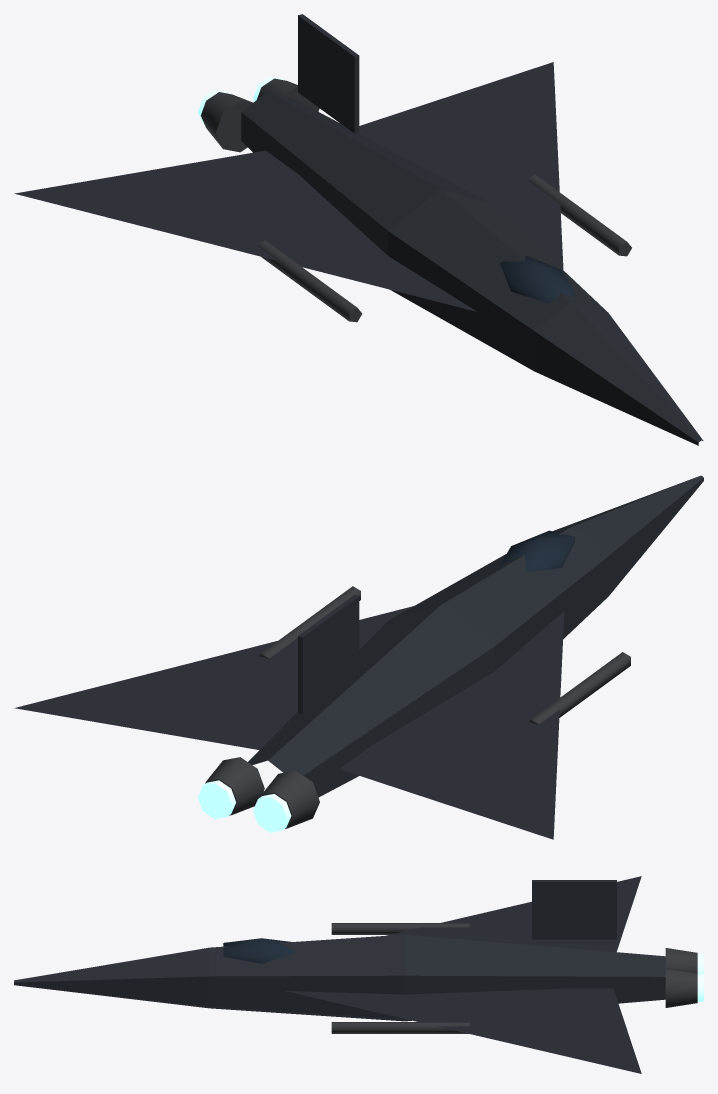
Rendered from space_ship_interceptor_mk4.glb.
The picture shows the model from 3 angles, top to bottom: view 1: azimuth 30°, elevation 25°; view 2: azimuth 150°, elevation 25°; view 3: azimuth 270°, elevation 25°; orthographic projection. The views are drawn at different scales.
Parts seen in each view (by area): view 1: body, engine_0, gun_r, gun_l, engine_1; view 2: body, engine_0, engine_1, gun_r, gun_l; view 3: body, gun_l, engine_1, gun_r, engine_0.
Part boxes in pixels (x1,y1,x2,y2): body: [14, 14, 703, 445]; engine_0: [197, 90, 252, 152]; gun_r: [257, 240, 362, 322]; gun_l: [527, 174, 631, 256]; engine_1: [253, 76, 319, 111]; body: [14, 475, 703, 839]; engine_0: [253, 770, 319, 832]; engine_1: [197, 757, 264, 819]; gun_r: [528, 652, 630, 724]; gun_l: [259, 586, 360, 658]; body: [14, 876, 665, 1073]; gun_l: [331, 1022, 469, 1033]; engine_1: [665, 968, 703, 1007]; gun_r: [331, 923, 469, 934]; engine_0: [665, 948, 703, 973].
Size of what is drawn, in the model's own units: 8.8 by 2.91 by 12.96.
